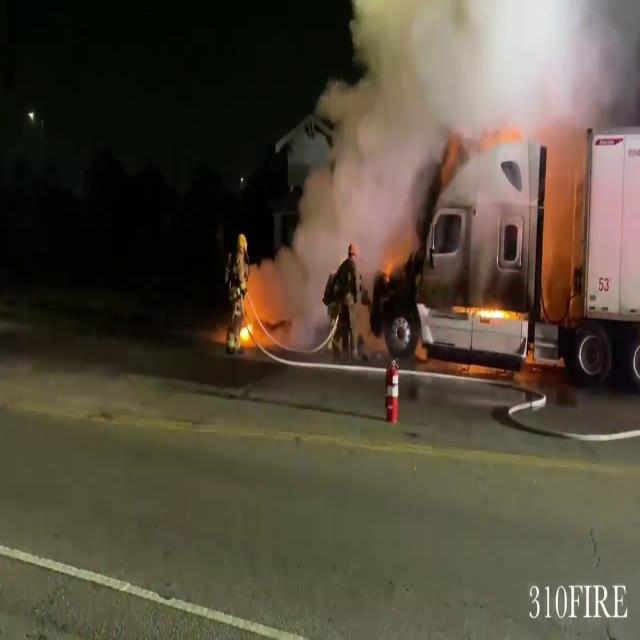Fire: (458, 294, 524, 326), (237, 301, 261, 355)
Smoke: (289, 0, 640, 171), (250, 69, 460, 348)
